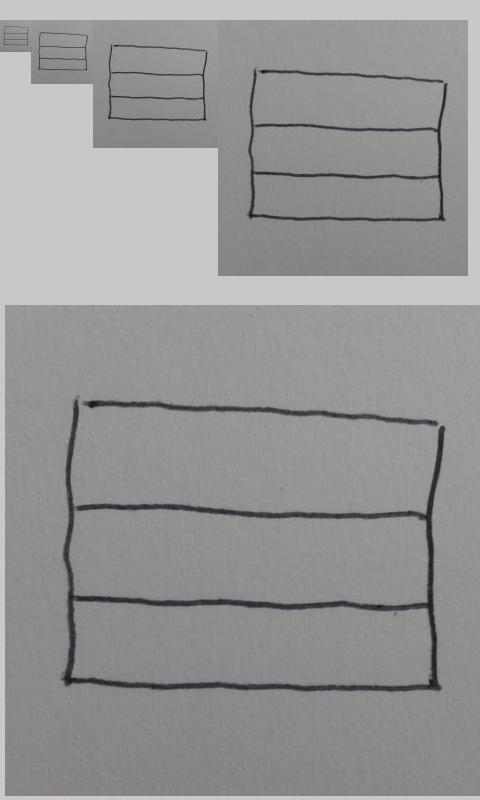list_view: (59, 394, 447, 695), (248, 66, 448, 225), (106, 43, 210, 123), (38, 31, 89, 71), (3, 25, 29, 46)
